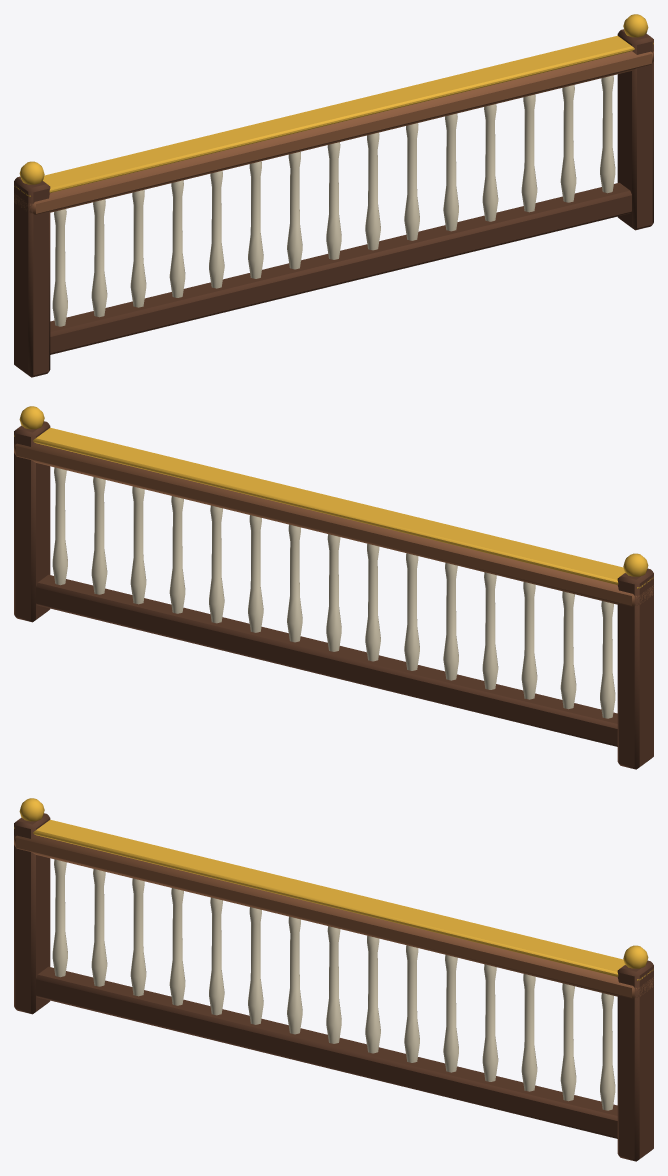
The model's file is balcony_rail_4m.glb.
The picture shows the model from 3 angles, top to bottom: view 1: azimuth 30°, elevation 25°; view 2: azimuth 150°, elevation 25°; view 3: azimuth 330°, elevation 25°; orthographic projection.
Visible parts, largest first — view 1: balcony_rail_4m; view 2: balcony_rail_4m; view 3: balcony_rail_4m.
Part boxes in pixels (x1,y1,x2,y2): balcony_rail_4m: (14,14,653,377); balcony_rail_4m: (14,406,653,769); balcony_rail_4m: (14,798,653,1161).
Bounding box in the file's own units: 4 × 1.27 × 0.22.
